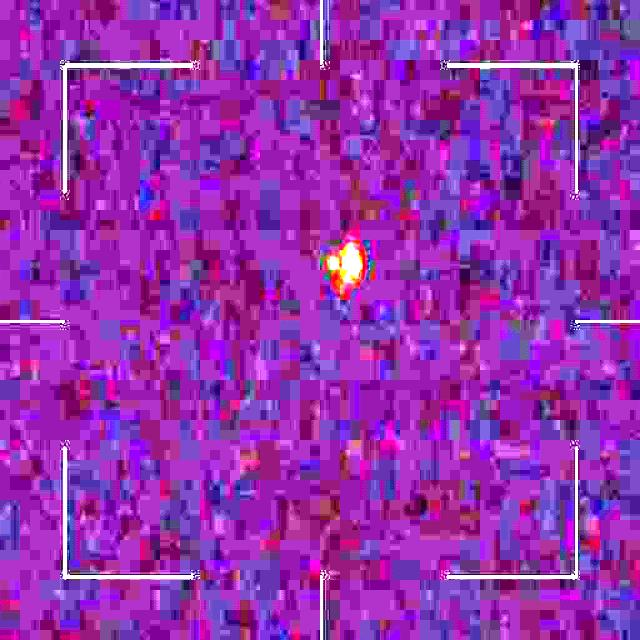bird: (329, 241, 365, 292)
